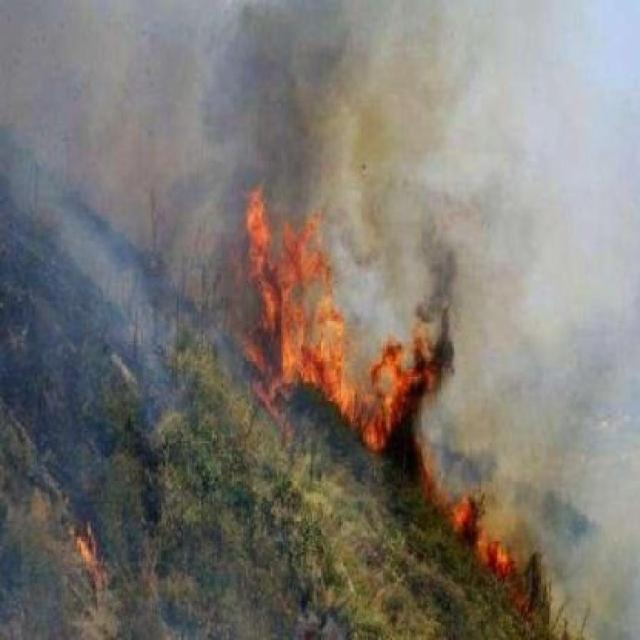Fire: (236, 179, 544, 626)
